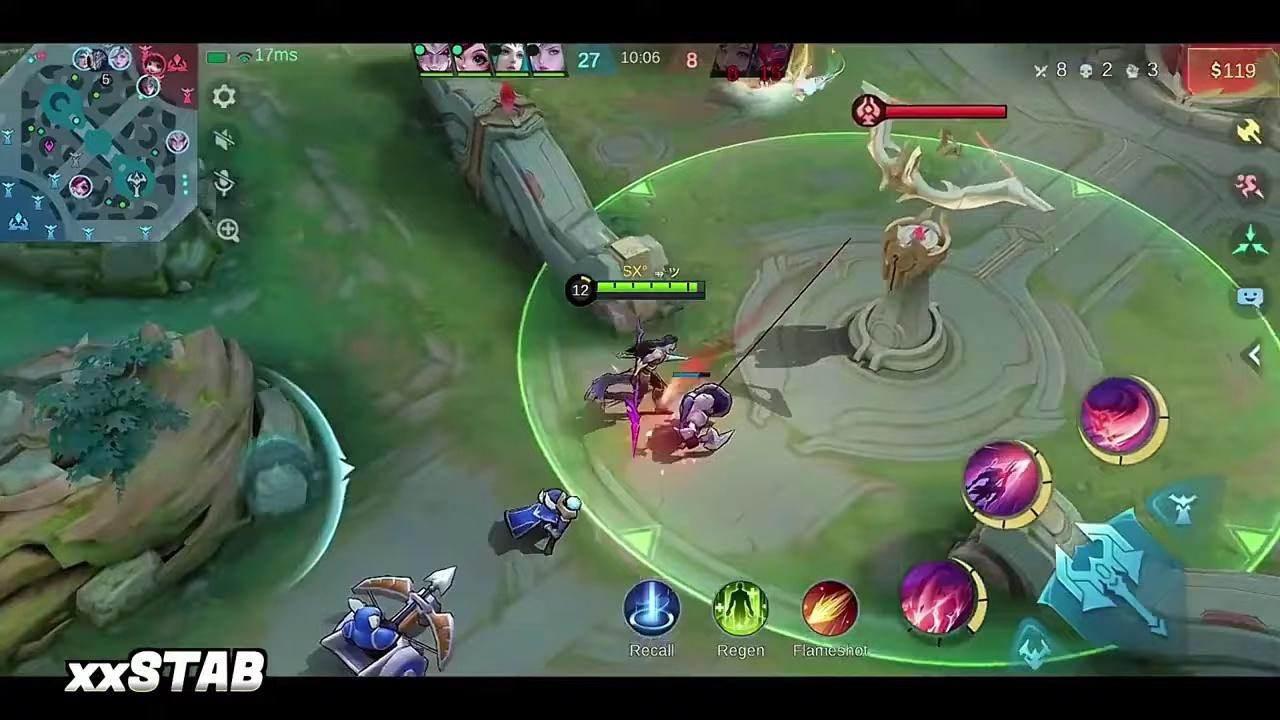Adc_Aliado: (108, 46, 132, 69)
Arlott: (578, 326, 696, 456)
Esbirro_Aliado: (325, 568, 461, 677), (654, 382, 746, 460), (506, 491, 585, 555)
Exp_Aliado: (137, 77, 161, 96)
Exp_Enemigo: (88, 51, 109, 71)
HP_Heroe_Principal: (596, 281, 701, 292)
Hechizo_Batalla: (804, 580, 862, 630)
Jungla_Aliado: (166, 124, 188, 154)
Mid_Aliado: (71, 46, 96, 68)
Mid_Enemigo: (65, 177, 99, 197), (144, 52, 168, 78)
Minimapa: (0, 49, 194, 247)
Skill1: (898, 563, 980, 638)
Skill2: (962, 441, 1047, 528)
Torre_Enemiga: (844, 120, 1049, 372)
skill3: (1080, 374, 1169, 461)
